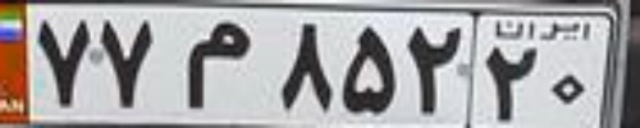0: (543, 73, 589, 105)
2: (406, 24, 458, 116), (484, 45, 537, 121)
5: (341, 24, 395, 115)
7: (100, 18, 155, 107), (36, 19, 89, 108)
8: (277, 22, 332, 113)
mim: (183, 21, 249, 108)
